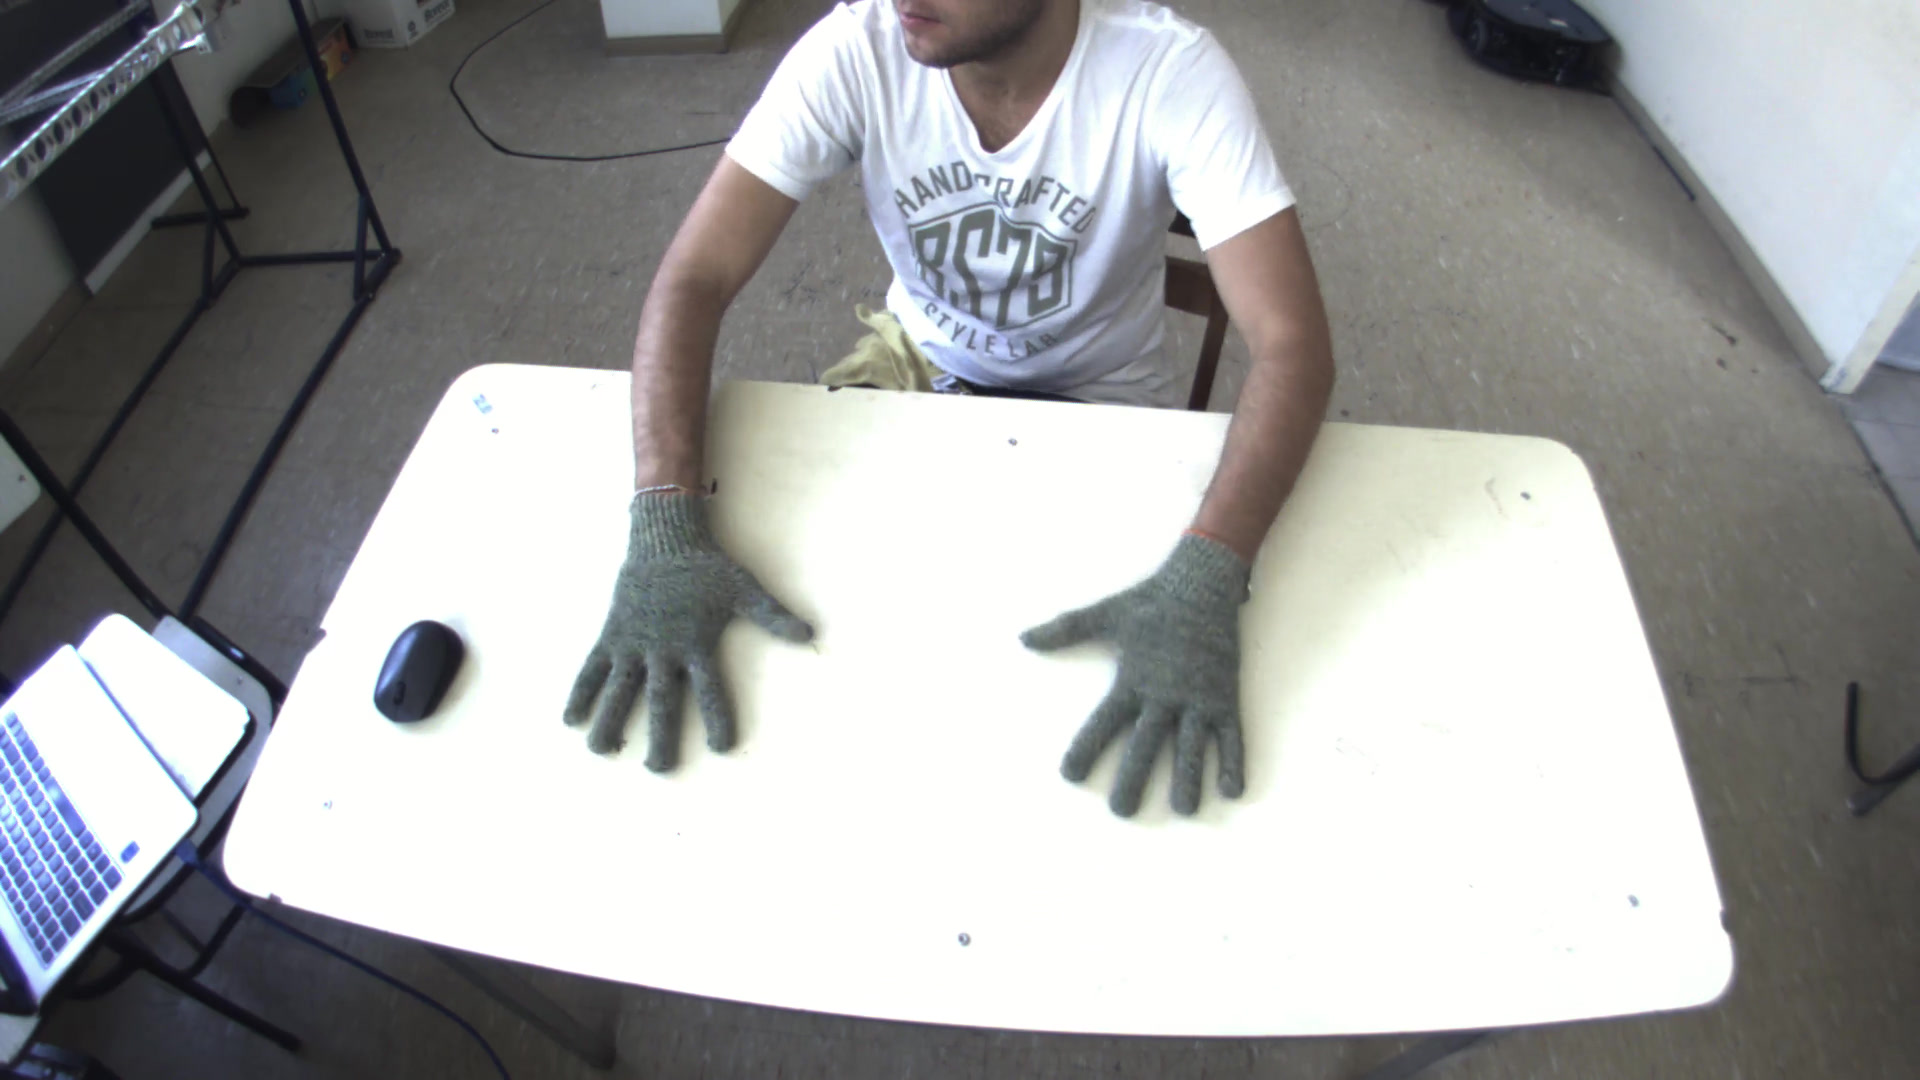hand: (545, 473, 822, 781), (1013, 530, 1273, 832)
